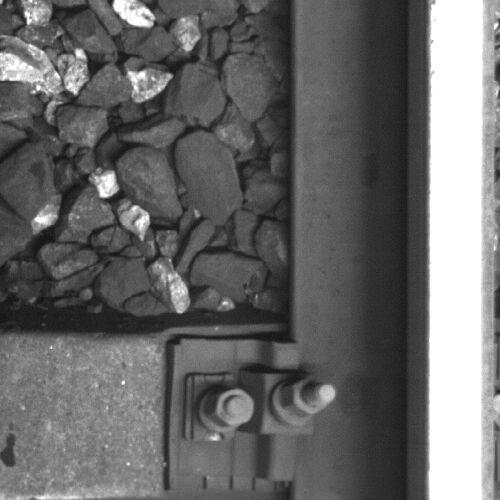kb: (177, 340, 339, 484)
nut: (282, 372, 339, 419), (205, 387, 256, 433)
rail: (429, 1, 494, 500)
tie_concr: (1, 330, 286, 500)
